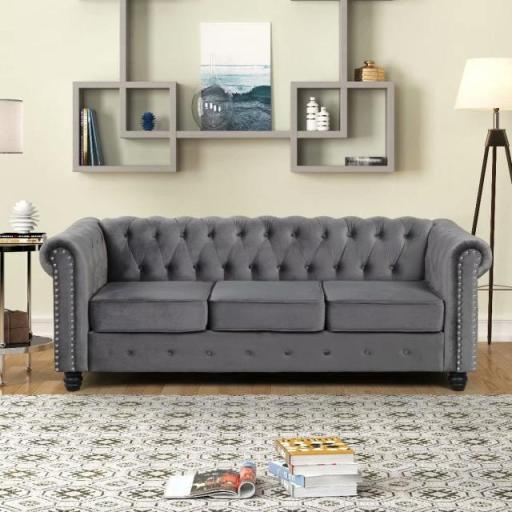sofa: (29, 176, 496, 414)
